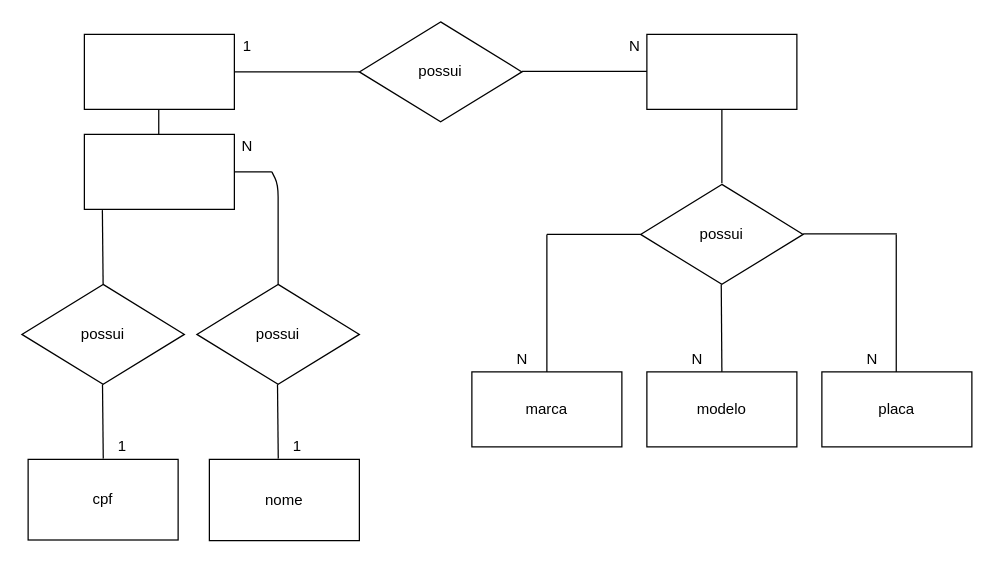
Some shapes in this 994 by 563 pixel diagram are drawn without their labels. The shapes that lost their labels are listed below. From the top down, each one's box as (x1, y1, x2, y2) in pixels, then its label:
(83, 33, 234, 109): Empresa
(646, 33, 797, 109): veículos
(83, 133, 234, 209): cliente
